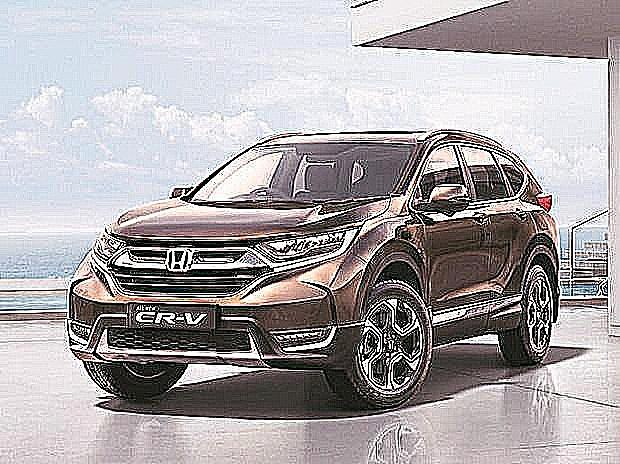Car hood: (102, 196, 397, 241)
Fender - -F-L-: (349, 191, 437, 350)
Fender - -R-L-: (520, 191, 551, 247)
Front bumper: (62, 272, 372, 379)
Headlight - -L-: (250, 222, 366, 276)
Headlight - -R-: (82, 223, 132, 269)
Passenger-s door - -F-L-: (438, 134, 491, 316)
Passenger-s door - -R-L-: (470, 139, 541, 311)
Rear bumper: (547, 243, 571, 323), (422, 182, 469, 218)
Rear light - -L-: (529, 189, 560, 214)
Side bumper - -L-: (422, 289, 533, 348)
